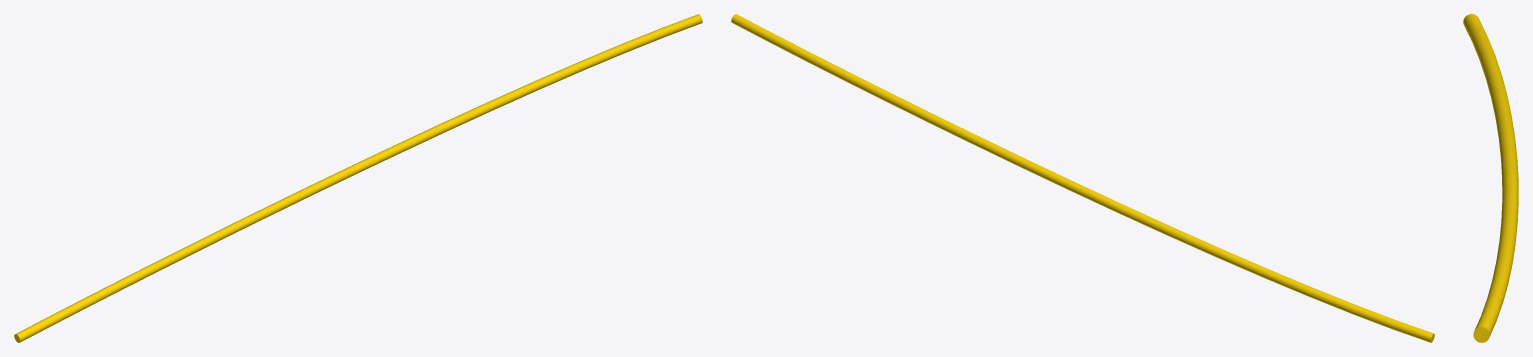
File: Event_421556567_track_27.fbx
3 renders of one model, left to right at view 1: azimuth 30°, elevation 25°; view 2: azimuth 150°, elevation 25°; view 3: azimuth 270°, elevation 25°, orthographic. The views are drawn at different scales.
Parts seen in each view (by area): view 1: Model; view 2: Model; view 3: Model.
Boxes of the visible parts, left/top/right/bottom form: Model: left=14, top=14, right=702, bottom=342; Model: left=731, top=14, right=1434, bottom=342; Model: left=1463, top=14, right=1518, bottom=342.
Size of the model in its own units: 3.27 by 0.7214 by 0.1345.
